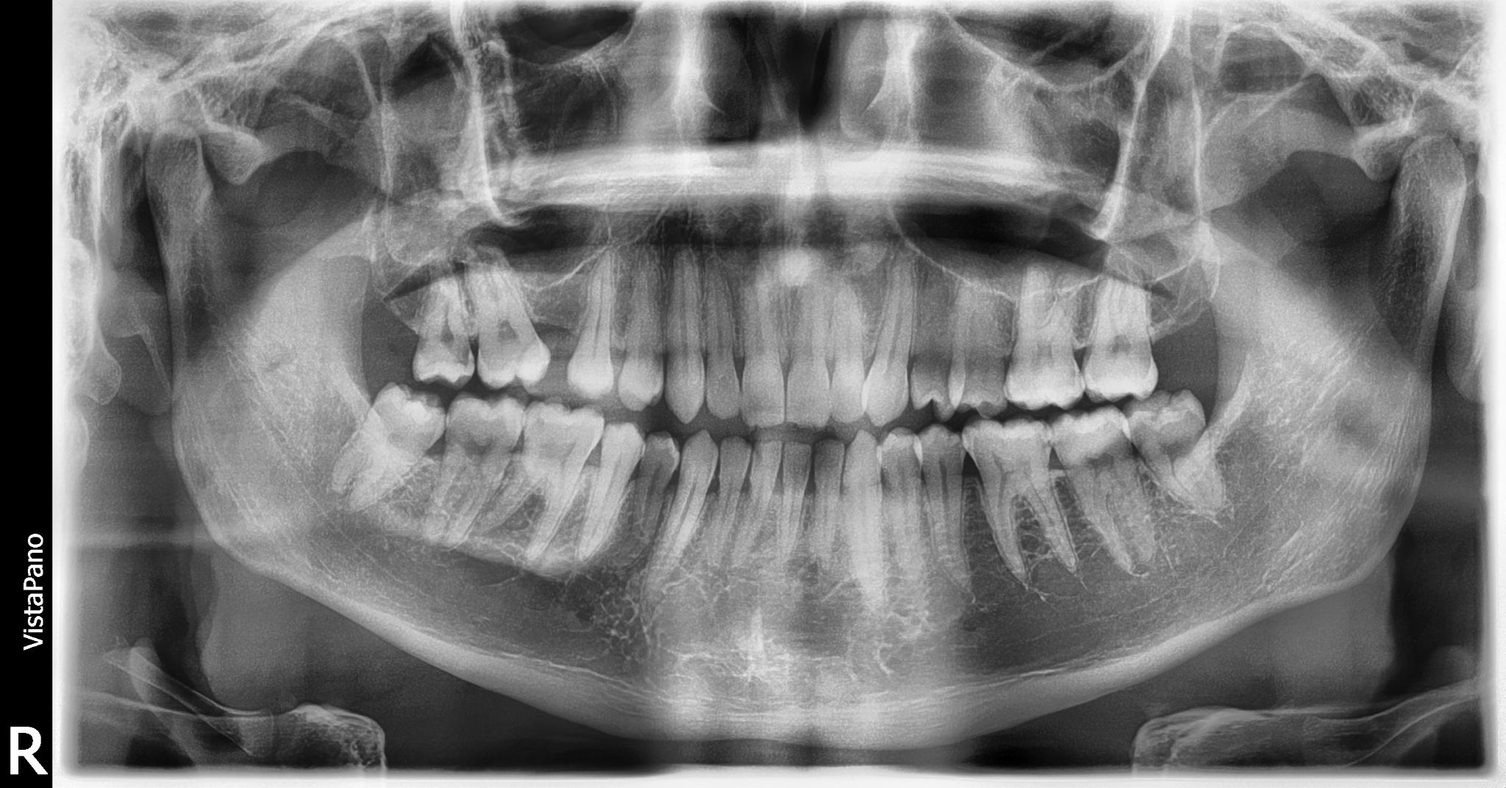Premolars: (480, 206, 1467, 747), (505, 172, 1506, 567), (261, 191, 783, 627), (195, 180, 613, 568)
